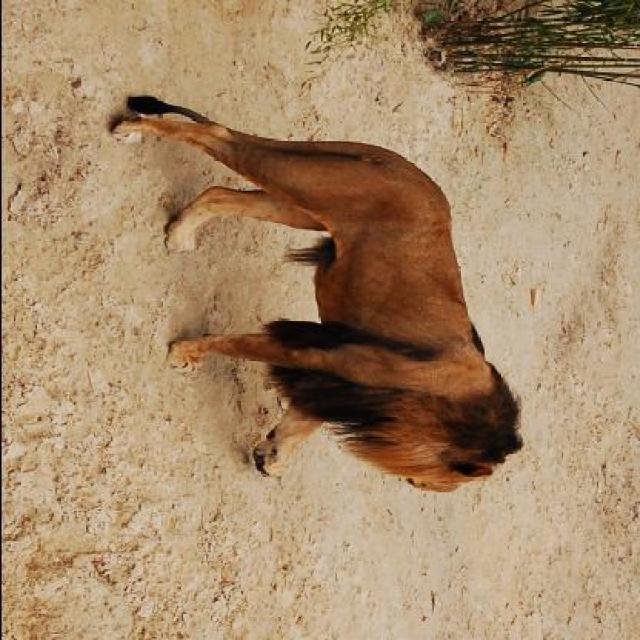Lion: (102, 77, 572, 532)
